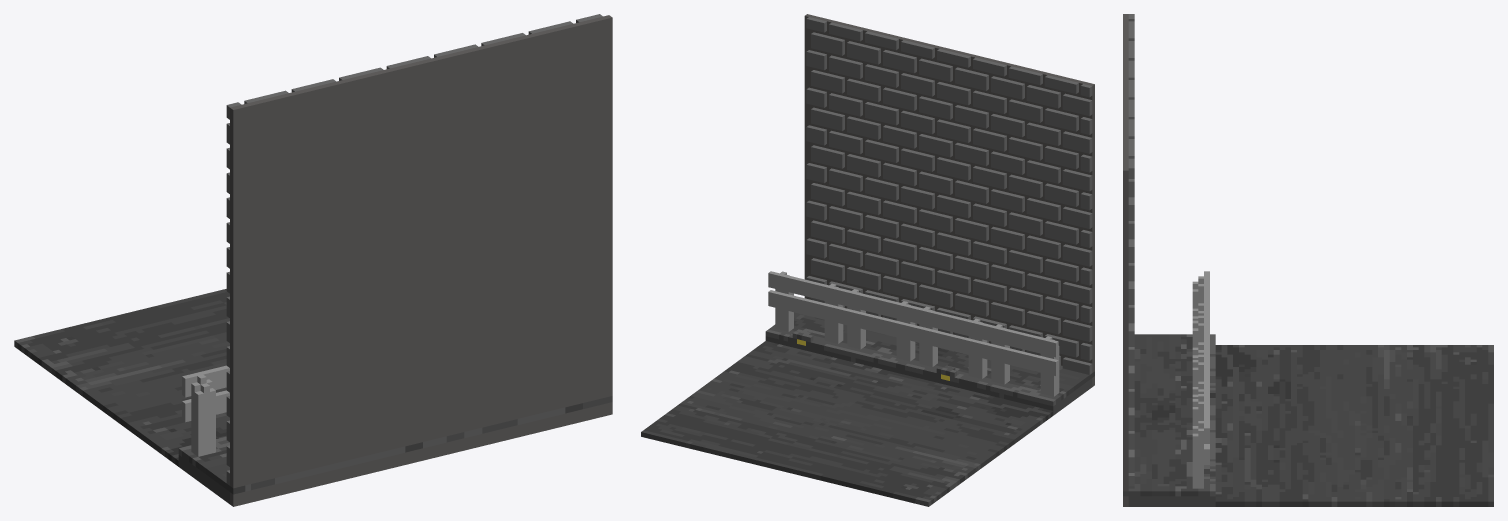
Rendered from MapFinalV1-32.obj.
The picture shows the model from 3 angles, left to right: view 1: azimuth 30°, elevation 25°; view 2: azimuth 150°, elevation 25°; view 3: azimuth 270°, elevation 25°; orthographic projection. The views are drawn at different scales.
Bounding box in the file's own units: 6.4 × 6.4 × 6.4.
1 material, 1 textured.
